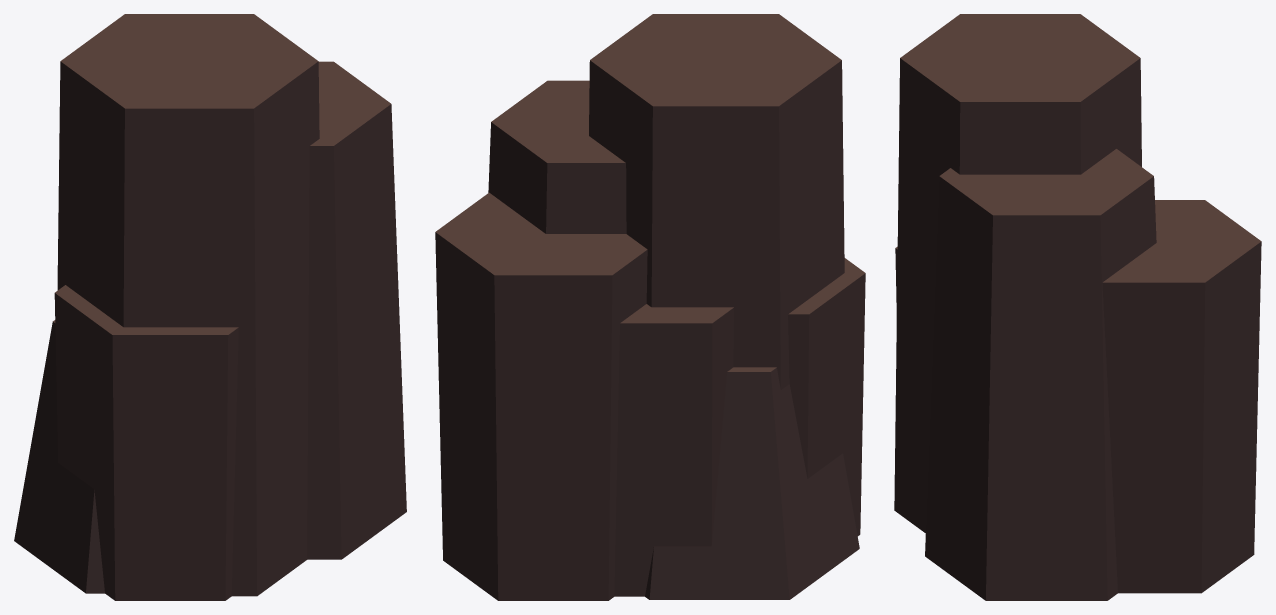
File: Crater_Basalt1.fbx
3 views of the same model, side by side, from view 1: azimuth 30°, elevation 25°; view 2: azimuth 150°, elevation 25°; view 3: azimuth 270°, elevation 25° (orthographic). The views are drawn at different scales.
Visible parts, largest first — view 1: Crater_Basalt1; view 2: Crater_Basalt1; view 3: Crater_Basalt1.
Boxes of the visible parts, x1,y1,x2,y2 form: Crater_Basalt1: [14, 14, 406, 600]; Crater_Basalt1: [435, 14, 865, 600]; Crater_Basalt1: [894, 14, 1261, 600].
Size of the model in its own units: 1.13 by 1.62 by 1.19.
